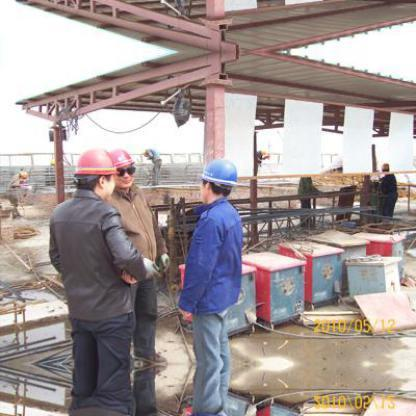helmet: (69, 146, 118, 181), (196, 154, 243, 190), (105, 138, 140, 173)
